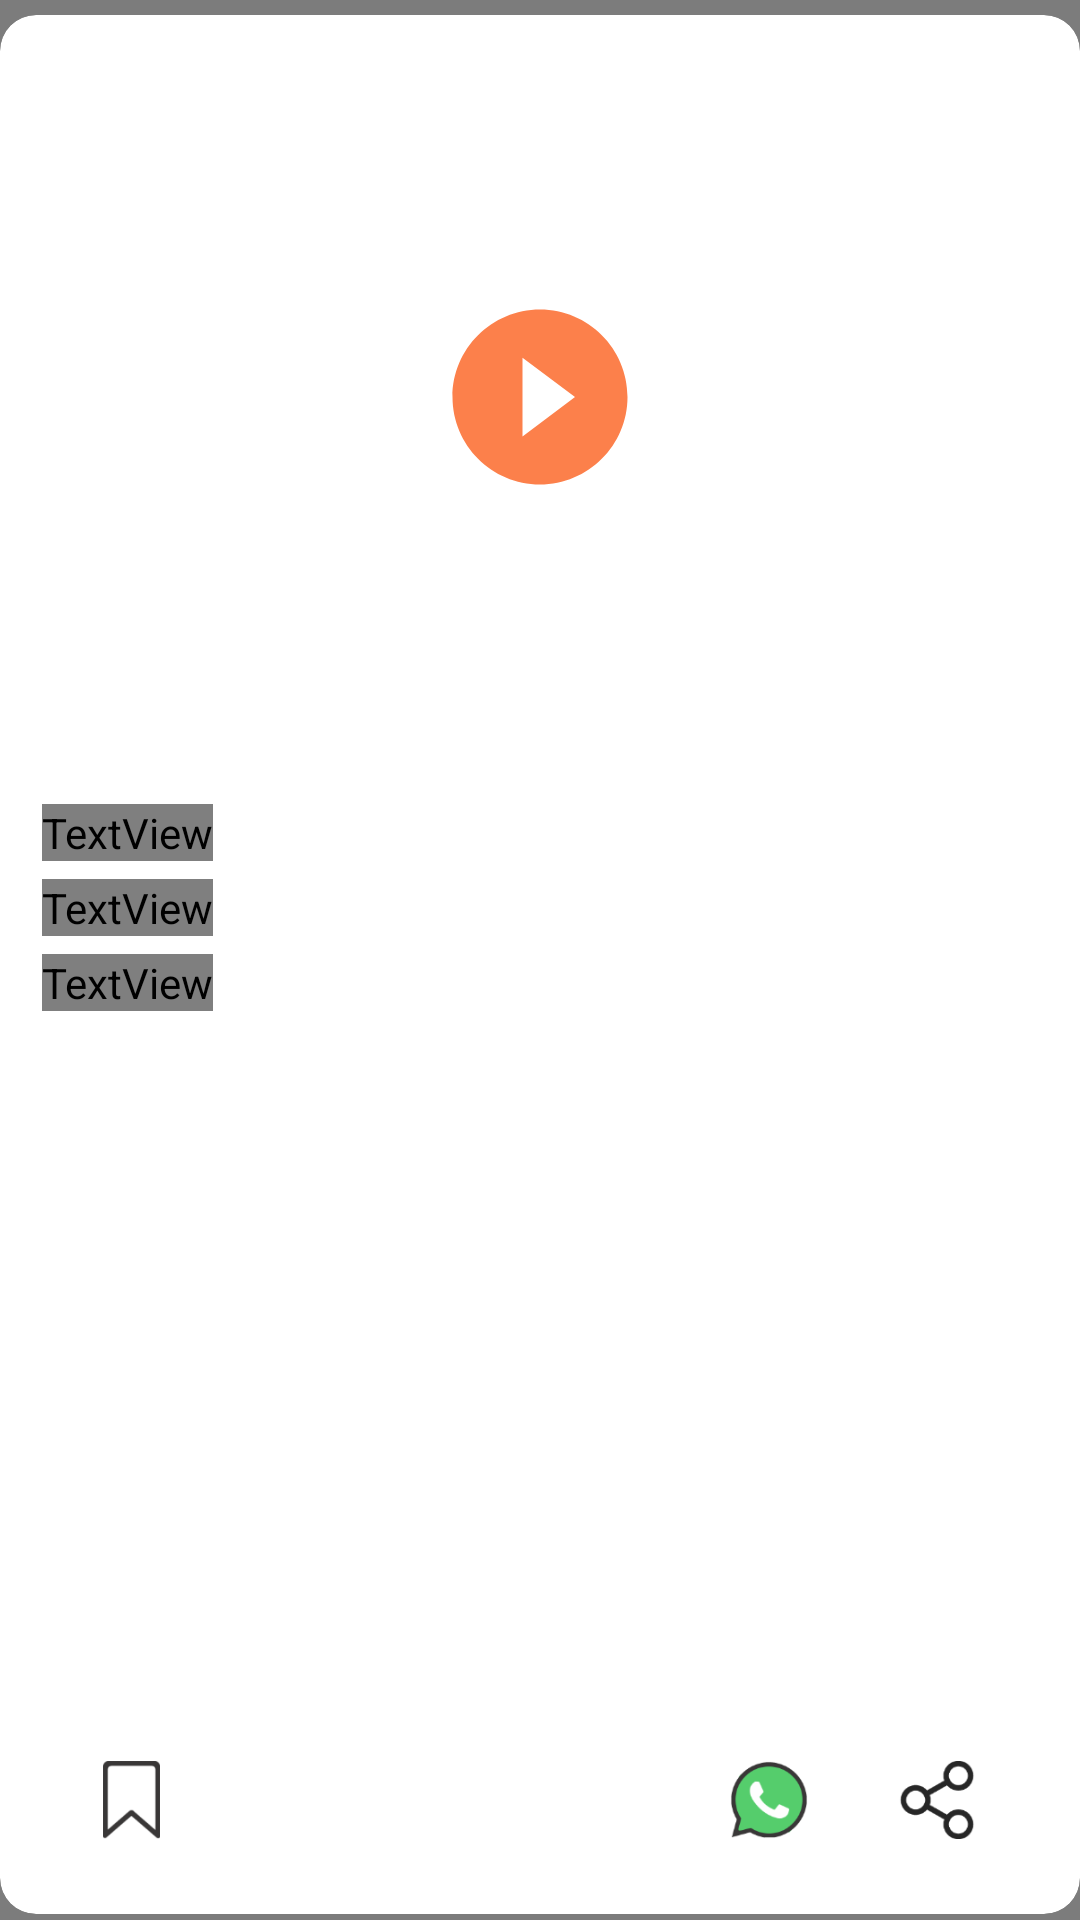

Locate icon controls on the screen. Image size 1080x1920, boxes as BBox(x1, y1, x2, y2).
play circle: BBox(452, 309, 628, 485)
